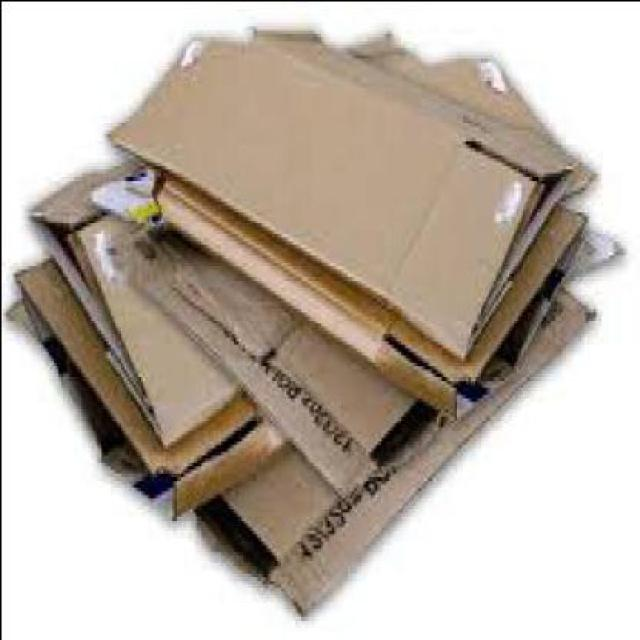CARDBOARD: (7, 253, 591, 604), (1, 171, 622, 477), (103, 20, 574, 358), (107, 225, 584, 486), (148, 153, 583, 422), (25, 157, 244, 432)
